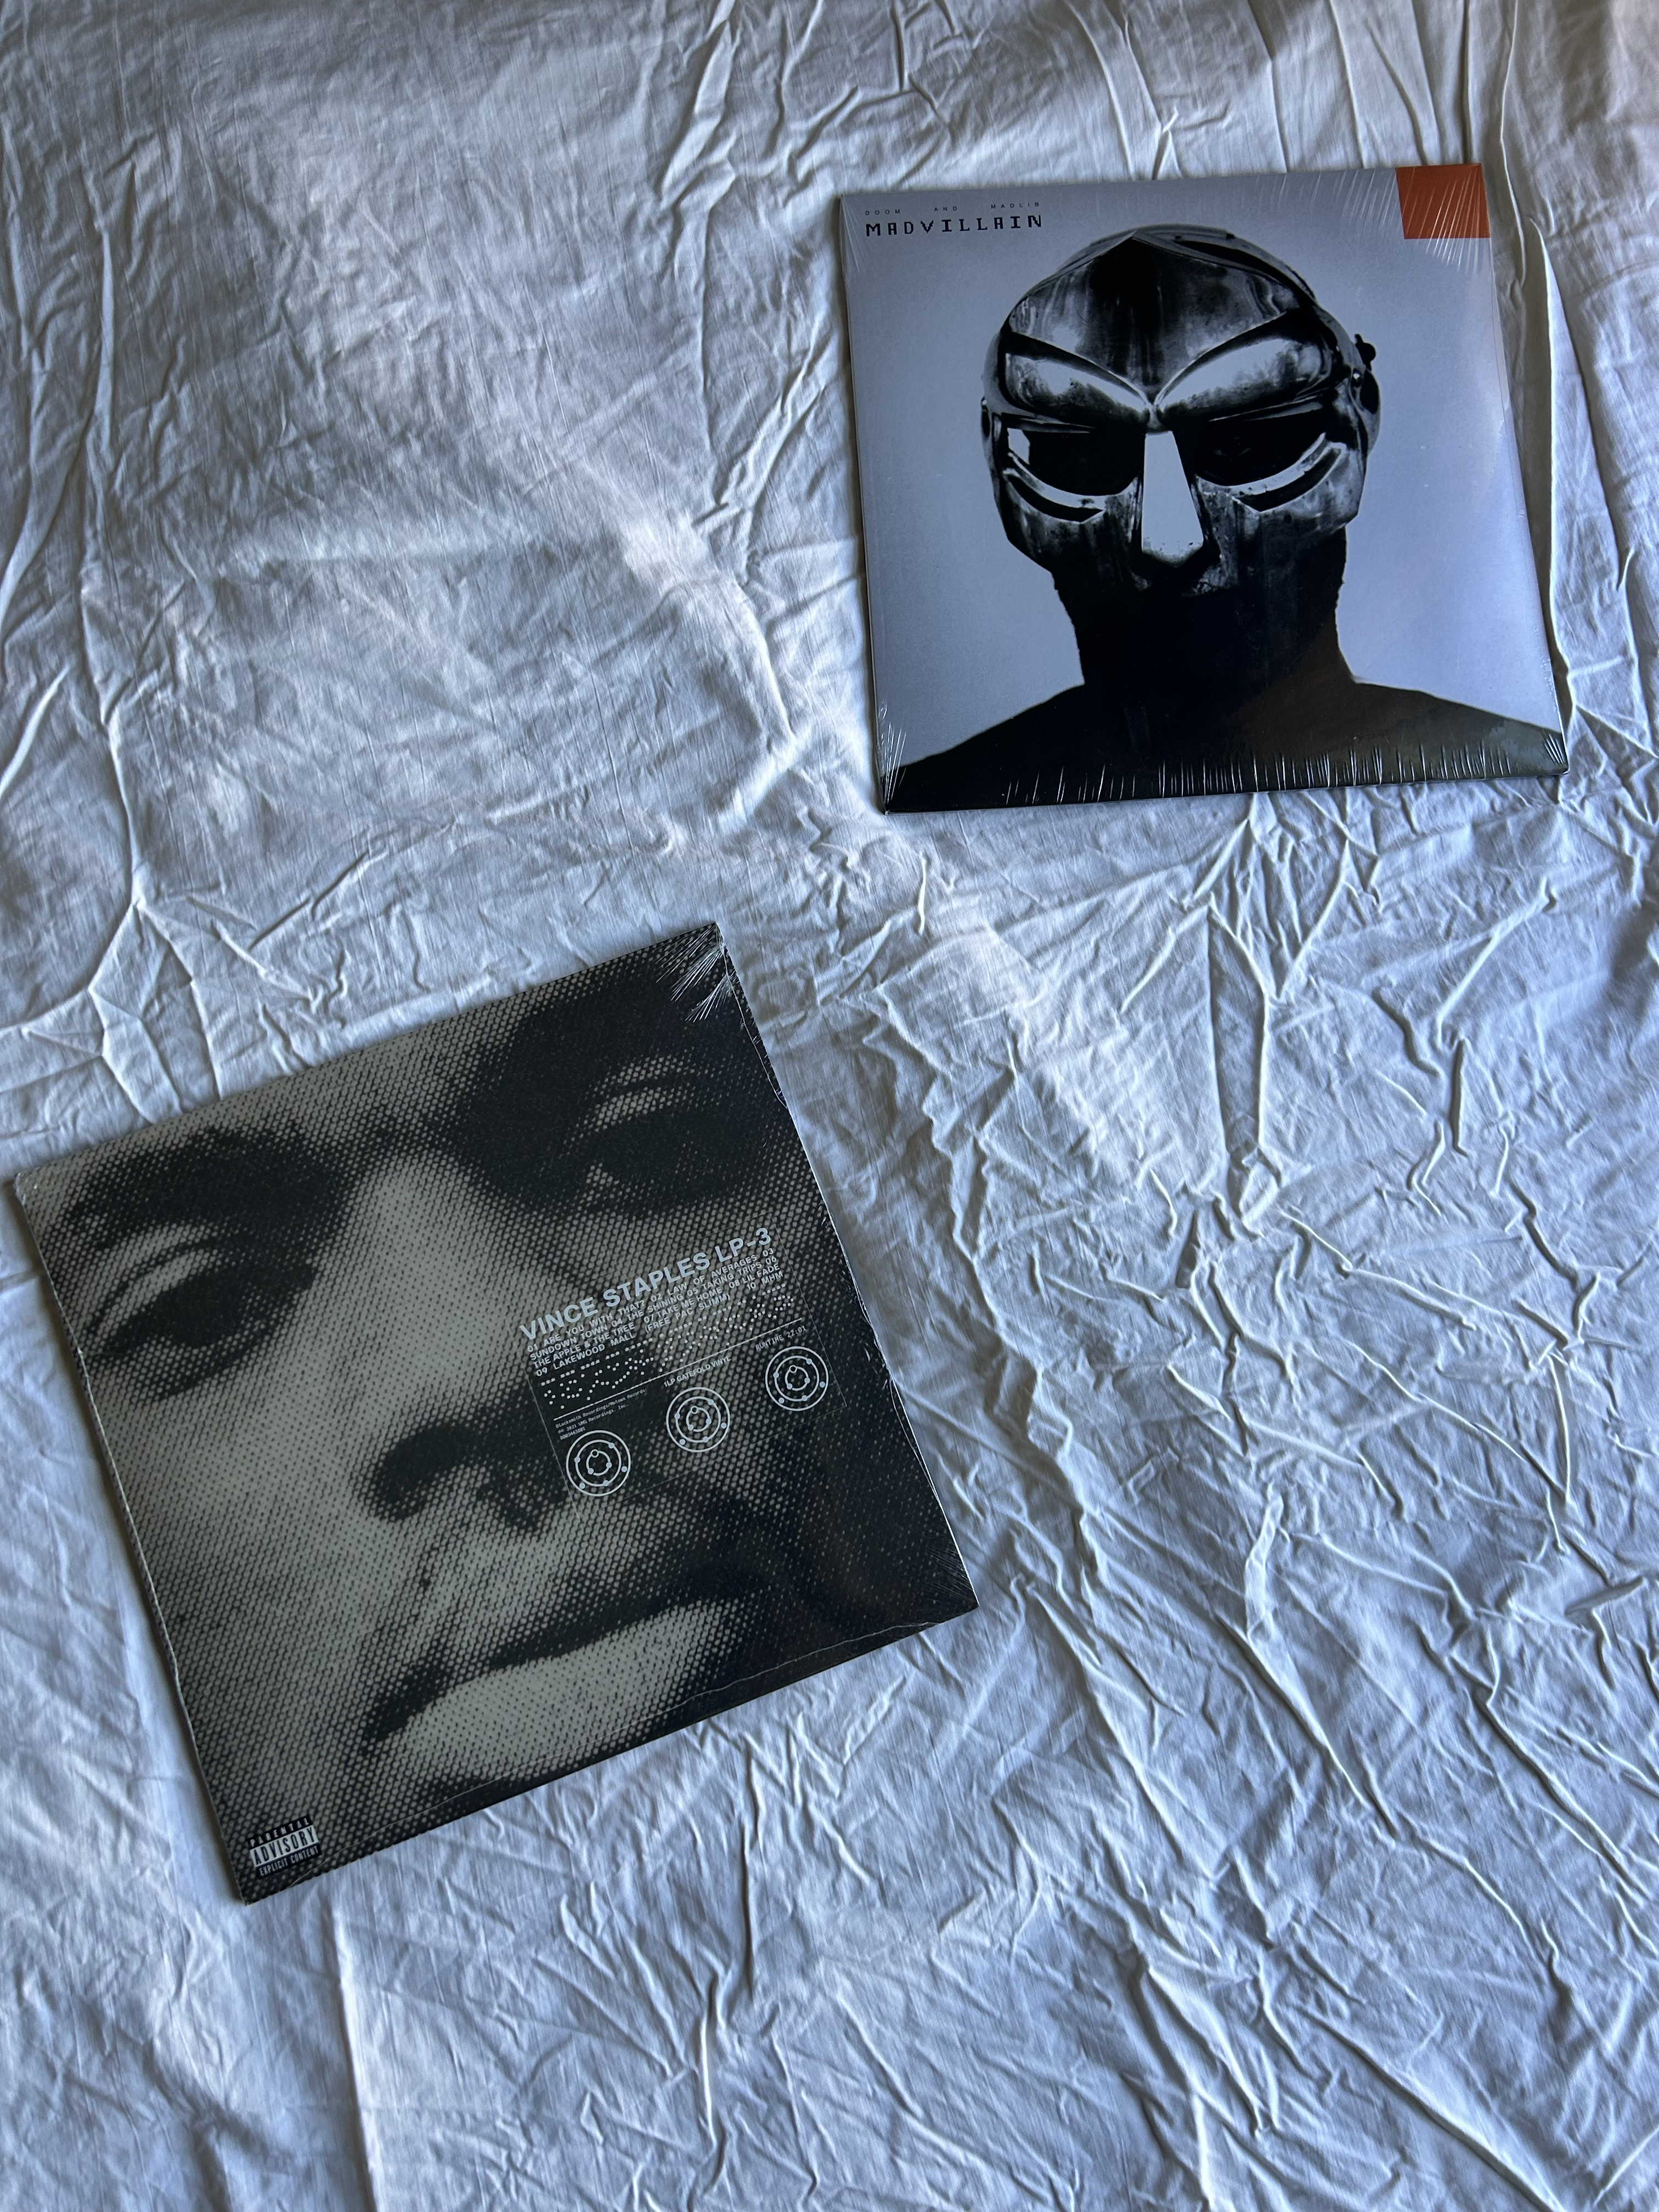madvillain_madvillainy: (823, 195, 1546, 815)
vince staples_vince staples: (0, 1176, 786, 1921)
